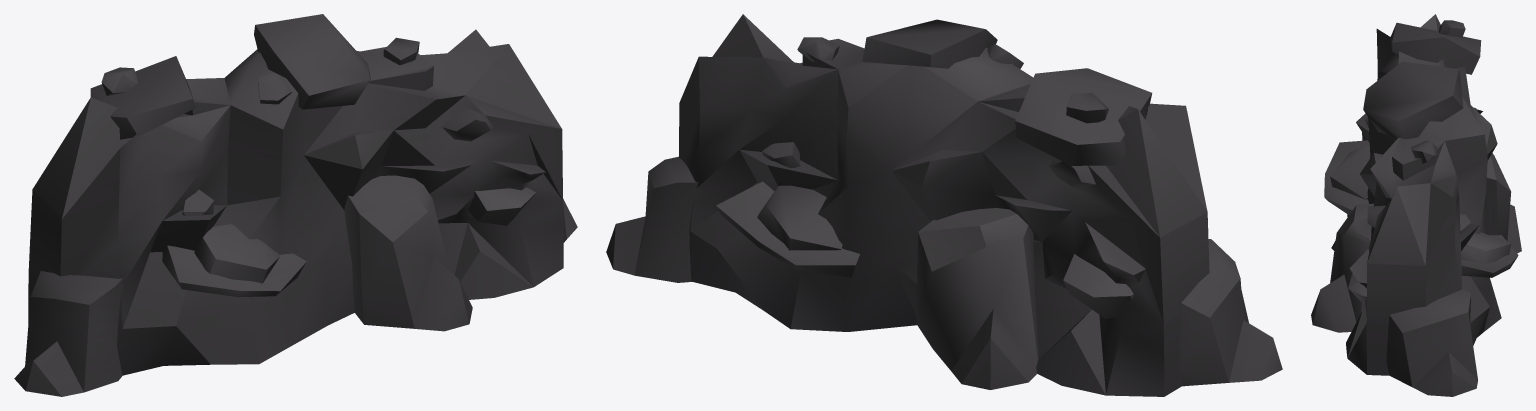
Rendered from rubble_large.glb.
3 views of the same model, side by side, from view 1: azimuth 30°, elevation 25°; view 2: azimuth 150°, elevation 25°; view 3: azimuth 270°, elevation 25° (orthographic). The views are drawn at different scales.
Parts seen in each view (by area): view 1: rubble_large; view 2: rubble_large; view 3: rubble_large.
Part boxes in pixels (<box>): rubble_large: <box>14,14,577,396</box>; rubble_large: <box>606,14,1282,396</box>; rubble_large: <box>1311,14,1521,396</box>.
Size of the model in its own units: 8.13 by 3.5 by 3.18.
Materials: 1 (1 with a texture image).
